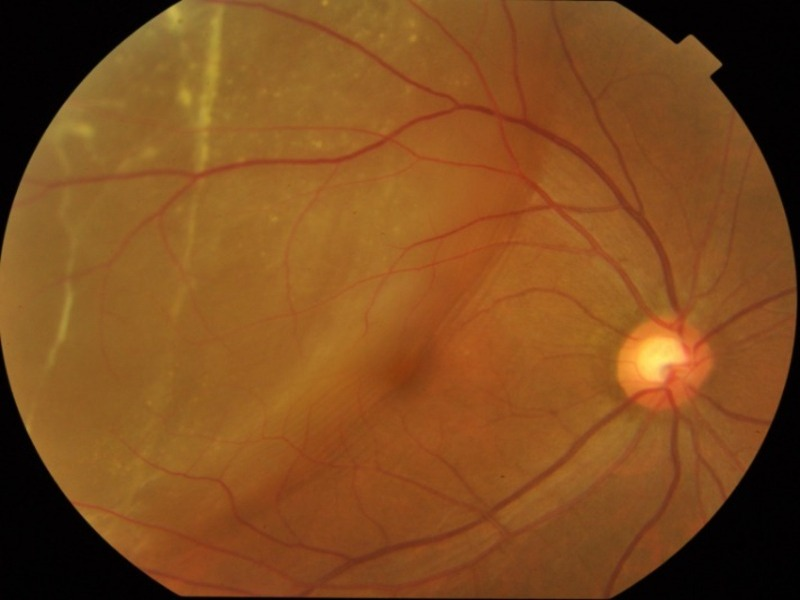Optic Cup: (636, 333, 689, 382)
Optic Disc: (615, 314, 716, 409)
